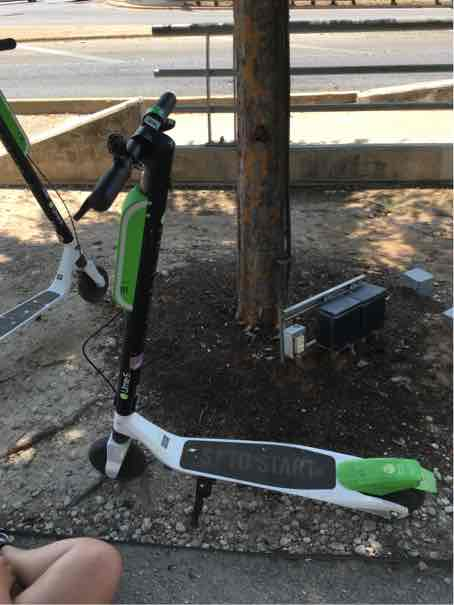scooter: (71, 107, 444, 576)
